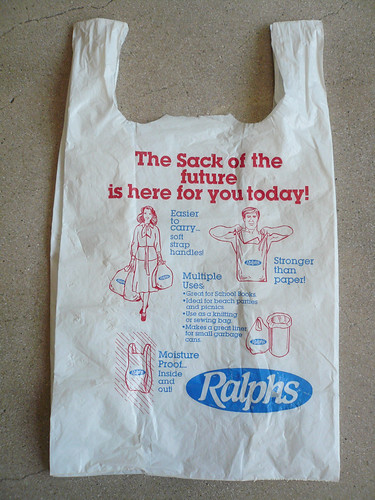plastic bag: (49, 19, 342, 482)
